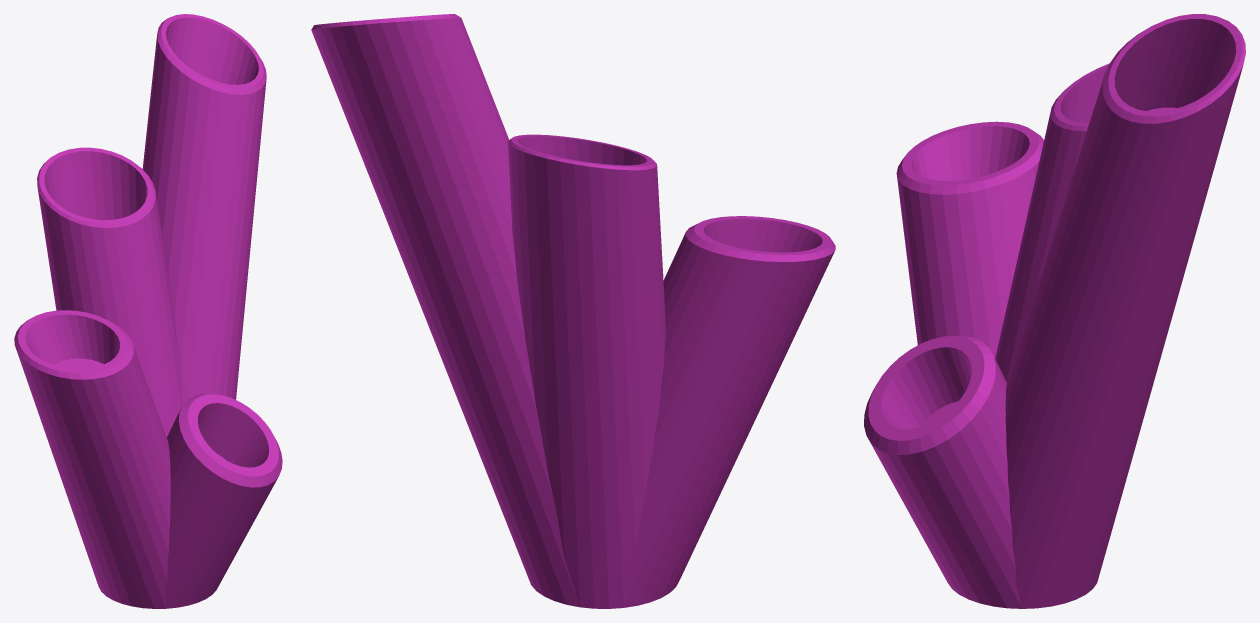
The model's file is tubers.fbx.
3 renders of one model, left to right at view 1: azimuth 30°, elevation 25°; view 2: azimuth 150°, elevation 25°; view 3: azimuth 270°, elevation 25°, orthographic. The views are drawn at different scales.
Parts seen in each view (by area): view 1: Cylinder; view 2: Cylinder; view 3: Cylinder.
Boxes of the visible parts, box(x1,y1,x2,y2) form: Cylinder: box(14, 14, 282, 608); Cylinder: box(311, 14, 835, 608); Cylinder: box(864, 14, 1245, 608).
Bounding box in the file's own units: 614 × 885 × 501.
